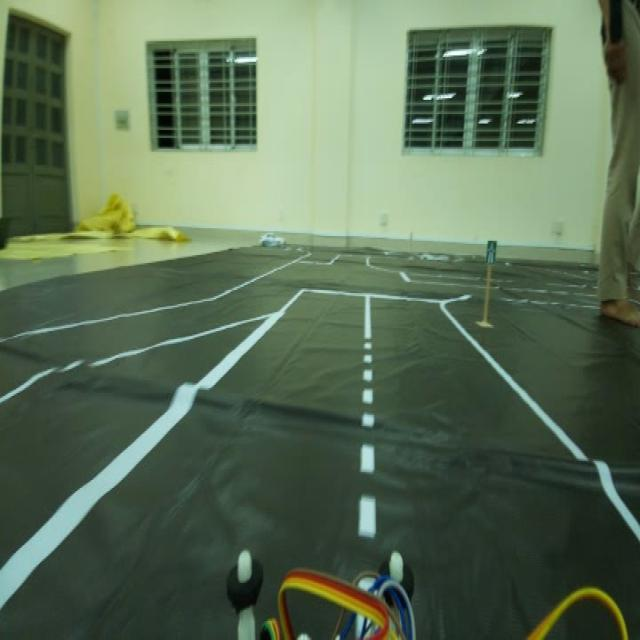highway_entry: (478, 228, 504, 284)
